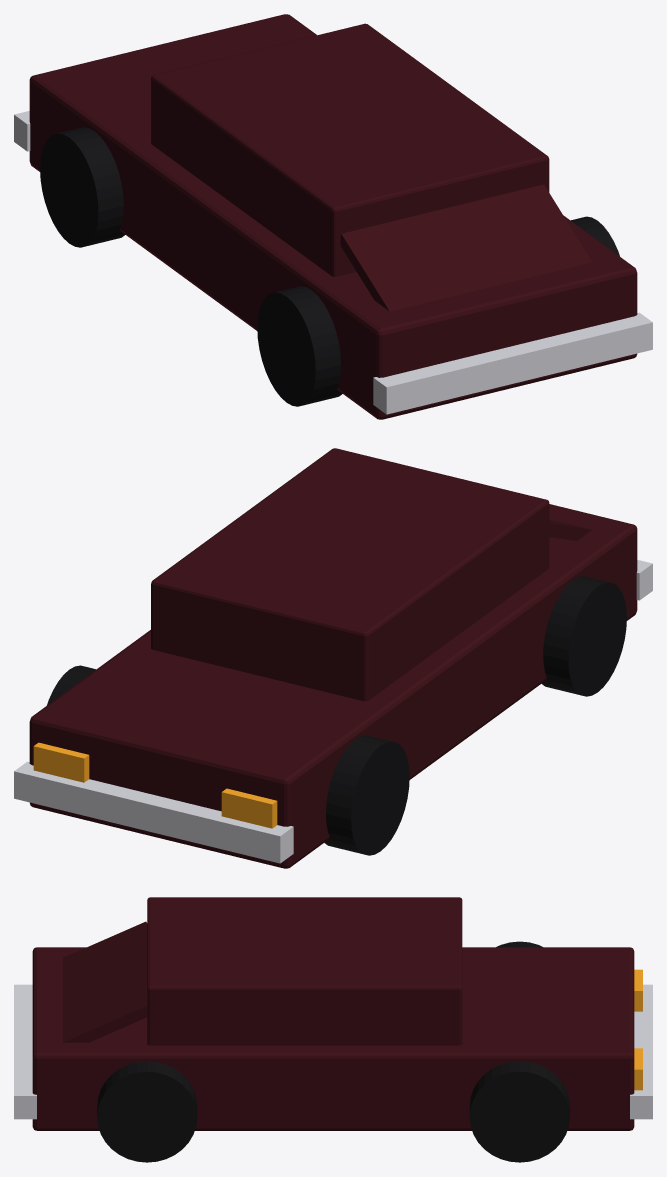
Rendered from escape_car_84.glb.
The picture shows the model from 3 angles, top to bottom: view 1: azimuth 30°, elevation 25°; view 2: azimuth 150°, elevation 25°; view 3: azimuth 270°, elevation 25°; orthographic projection. The views are drawn at different scales.
Visible parts, largest first — view 1: Car_Cabin, Car_Chassis, Car_TrunkLid, Car_Bumper_Rear, Wheel_0, Wheel_2, Wheel_1, Car_Bumper_Front; view 2: Car_Cabin, Car_Chassis, Car_Bumper_Front, Wheel_0, Wheel_2, Car_Headlight_L, Car_Headlight_R, Wheel_3, Car_TrunkLid; view 3: Car_Chassis, Car_Cabin, Wheel_1, Wheel_3, Car_TrunkLid, Car_Bumper_Rear, Car_Bumper_Front.
Part boxes in pixels (x1,y1,x2,y2): Car_Cabin: (151,23,549,276); Car_Chassis: (29,14,637,419); Car_TrunkLid: (340,184,591,311); Car_Bumper_Rear: (373,312,652,414); Wheel_0: (257,286,342,406); Wheel_2: (40,127,125,247); Wheel_1: (571,216,619,256); Car_Bumper_Front: (14,111,30,151); Car_Cabin: (151,448,549,701); Car_Chassis: (29,504,637,868); Car_Bumper_Front: (14,761,293,863); Wheel_0: (541,576,626,696); Wheel_2: (324,735,409,855); Car_Headlight_L: (221,788,277,828); Car_Headlight_R: (33,742,89,782); Wheel_3: (47,665,95,705); Car_TrunkLid: (549,519,591,540); Car_Chassis: (32,947,634,1130); Car_Cabin: (147,897,462,1045); Wheel_1: (97,1061,197,1162); Wheel_3: (469,1061,569,1162); Car_TrunkLid: (63,921,147,1042); Car_Bumper_Rear: (14,984,36,1119); Car_Bumper_Front: (630,984,652,1119).
Size of what is drawn, in the model's own units: 2.15 by 1.2 by 4.46.
